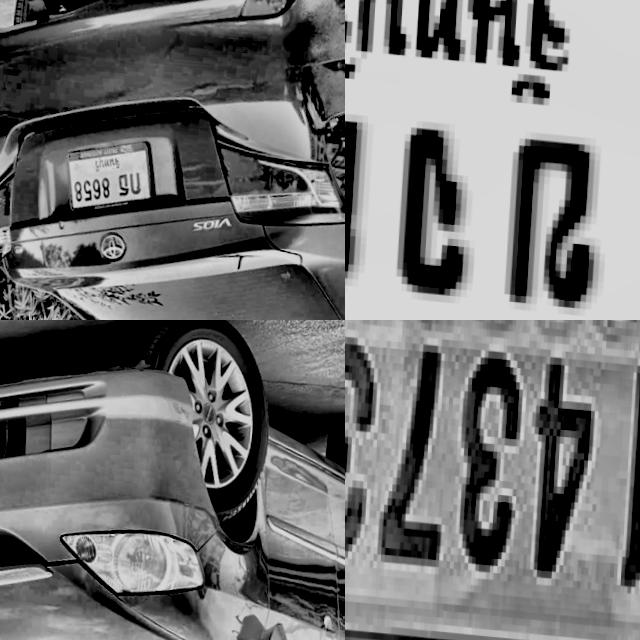license-plate: (345, 0, 640, 320), (345, 320, 640, 640), (63, 129, 161, 217)
